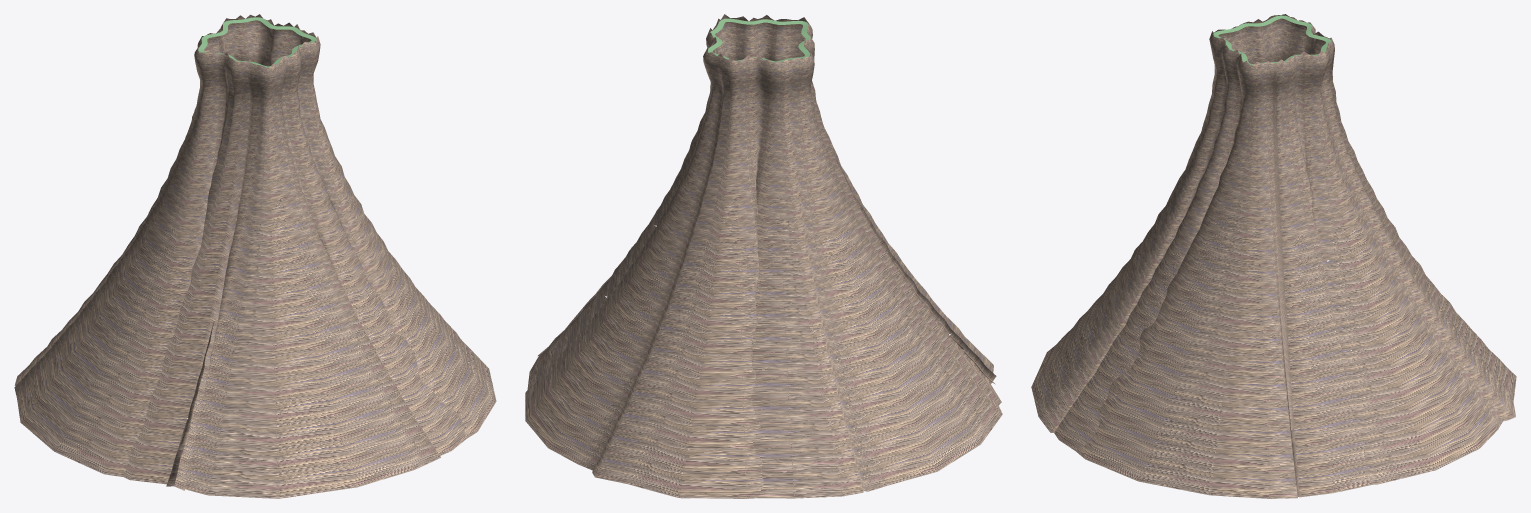
File: CliffWall_stack_11.glb
3 views of the same model, side by side, from view 1: azimuth 30°, elevation 25°; view 2: azimuth 150°, elevation 25°; view 3: azimuth 270°, elevation 25° (orthographic).
Visible parts, largest first — view 1: CliffWall_stack_11-rock0, CliffWall_stack_11-lip0; view 2: CliffWall_stack_11-rock0, CliffWall_stack_11-lip0; view 3: CliffWall_stack_11-rock0, CliffWall_stack_11-lip0.
Boxes of the visible parts, <box> form: CliffWall_stack_11-rock0: <box>14,14,496,498</box>; CliffWall_stack_11-lip0: <box>198,17,316,67</box>; CliffWall_stack_11-rock0: <box>525,14,1002,498</box>; CliffWall_stack_11-lip0: <box>708,18,810,62</box>; CliffWall_stack_11-rock0: <box>1031,14,1516,498</box>; CliffWall_stack_11-lip0: <box>1213,15,1331,65</box>.
Bounding box in the file's own units: 755 × 616 × 753.
4 materials, 1 textured.
